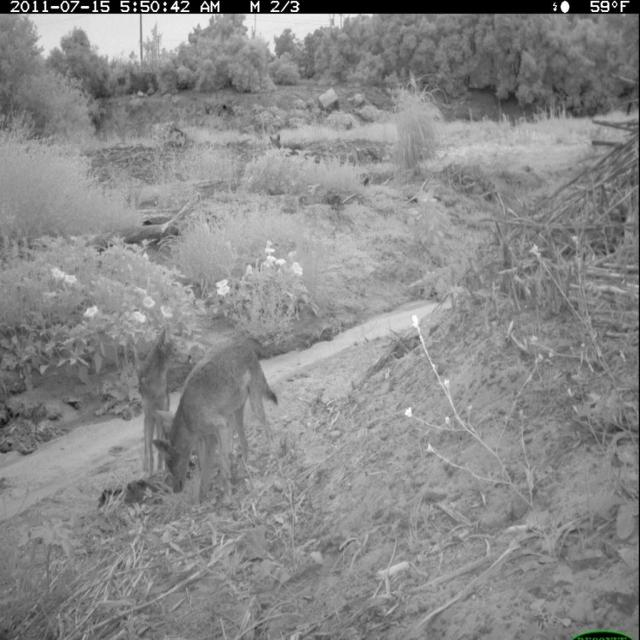coyote: (153, 342, 281, 506), (130, 327, 180, 489)
